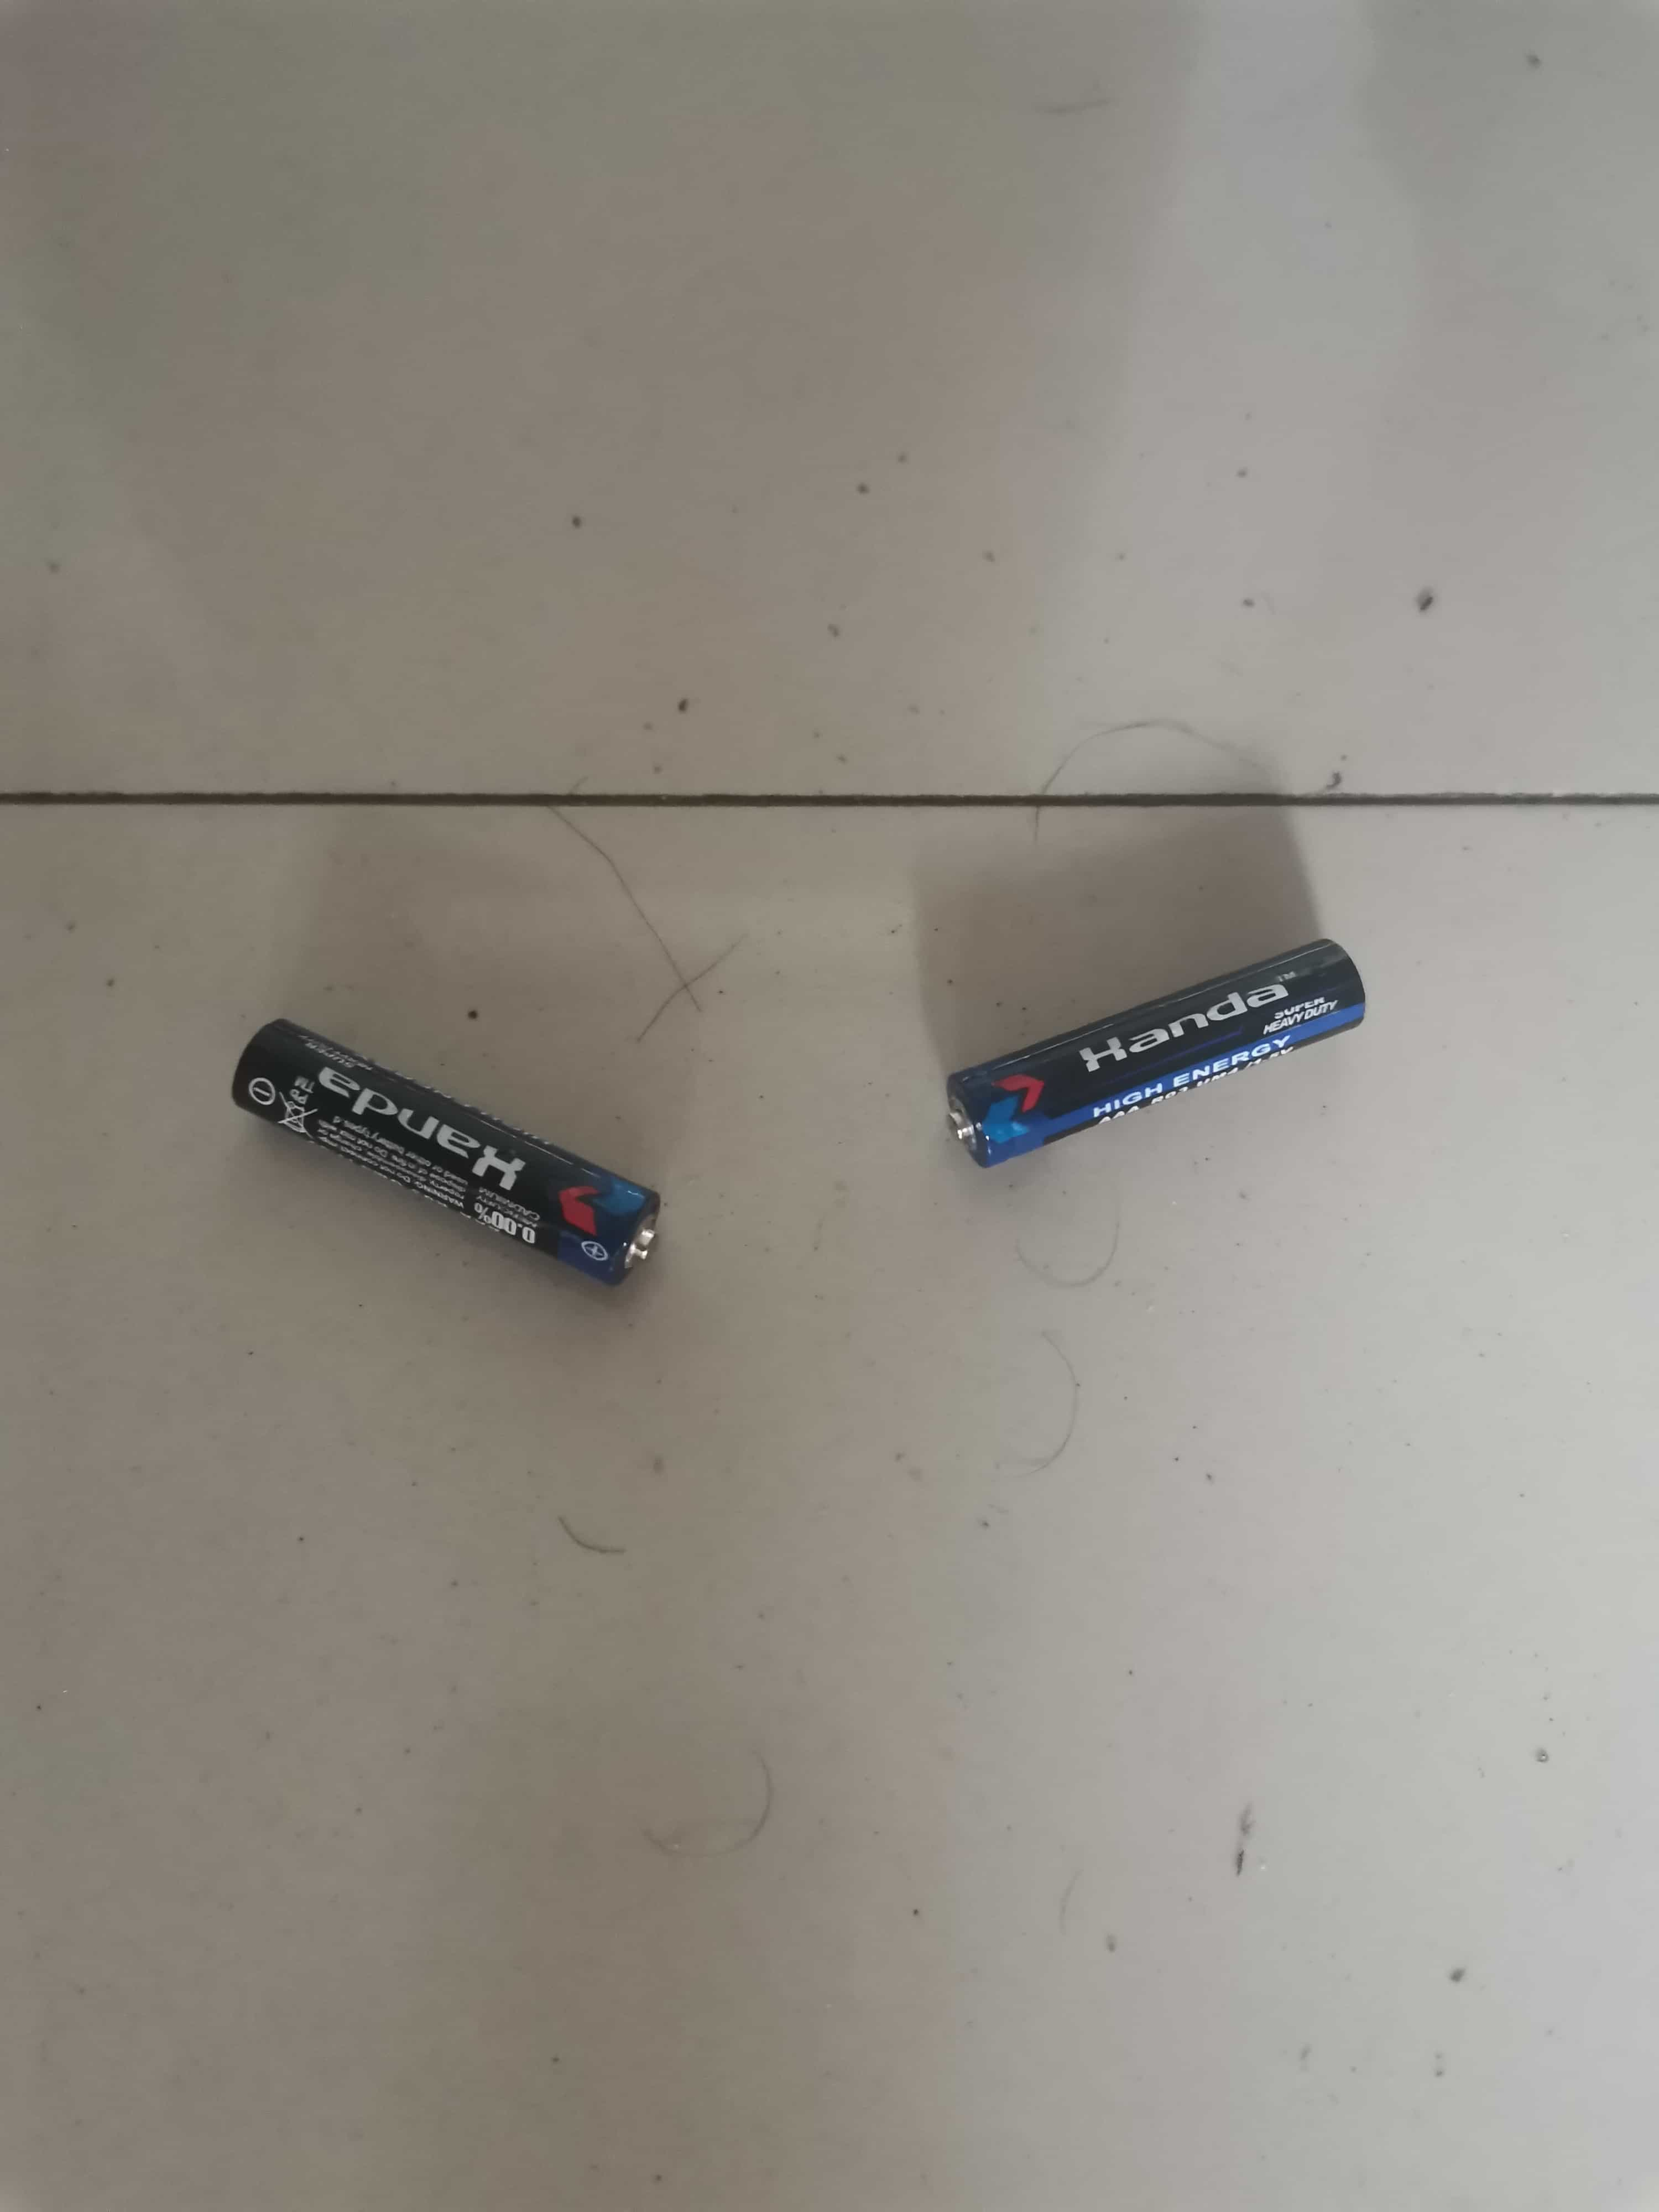battery: (218, 1007, 683, 1306), (931, 927, 1387, 1179)
